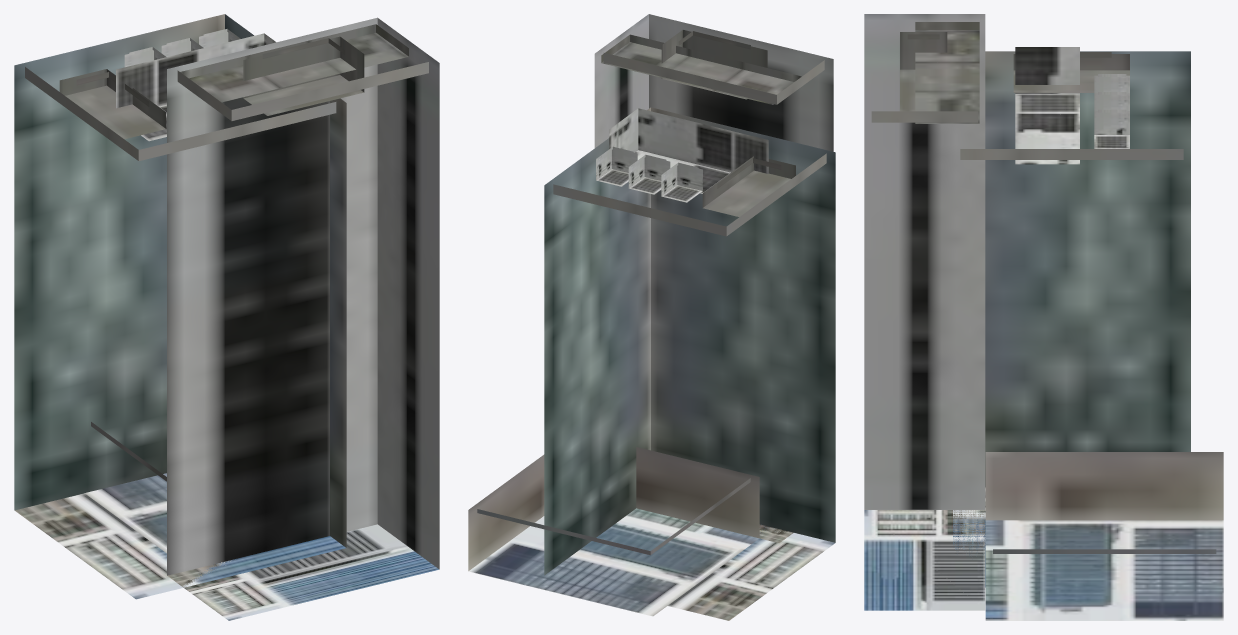
The picture shows the model from 3 angles, left to right: view 1: azimuth 30°, elevation 25°; view 2: azimuth 150°, elevation 25°; view 3: azimuth 270°, elevation 25°; orthographic projection. The views are drawn at different scales.
Bounding box in the file's own units: 0.2557 × 0.4538 × 0.2897.
Materials: 1 (1 with a texture image).
